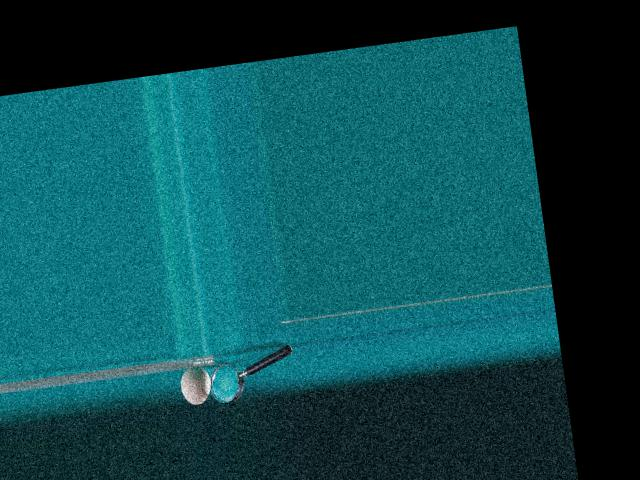egg: (177, 364, 213, 406)
